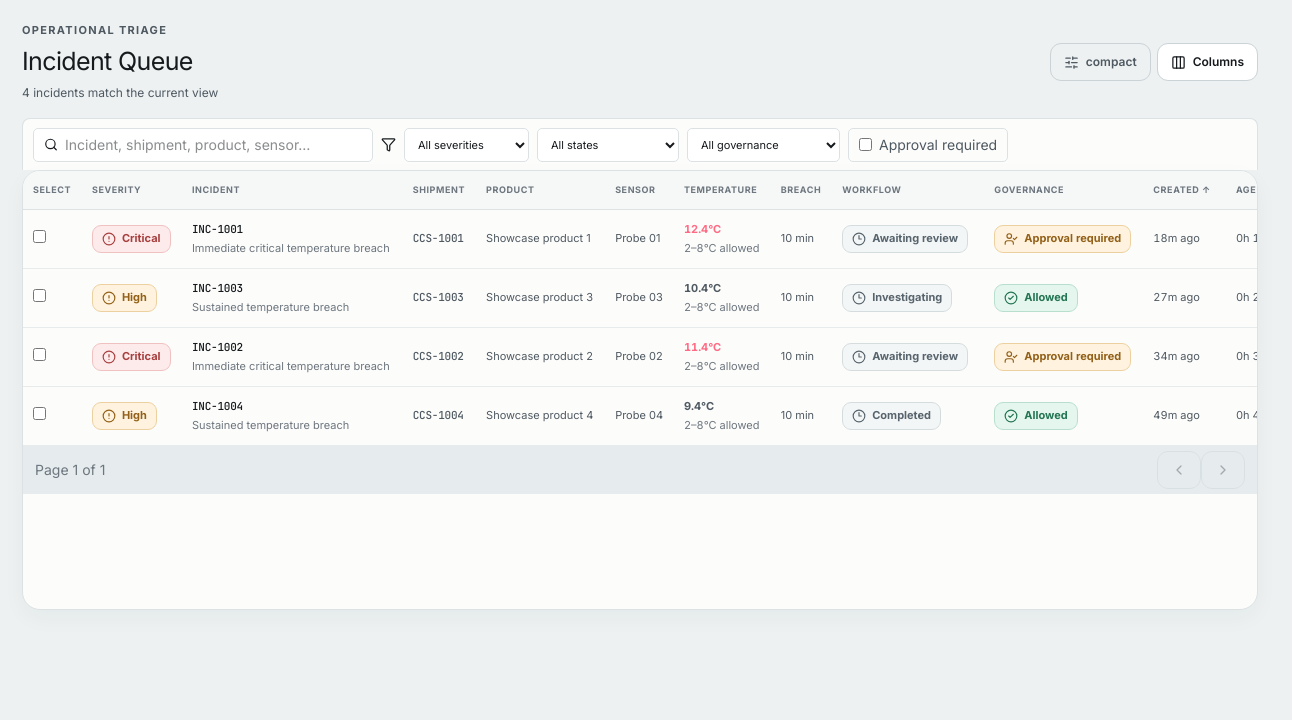
Scenario: canonical incident queue › preserves filtering, sorting, pagination controls, and accessibility
Expected: the text "4 incidents match the current view" is shown, [22,84,218,102]
Click the column heading "Incident". click: (292, 190)
box: [182,171,403,209]
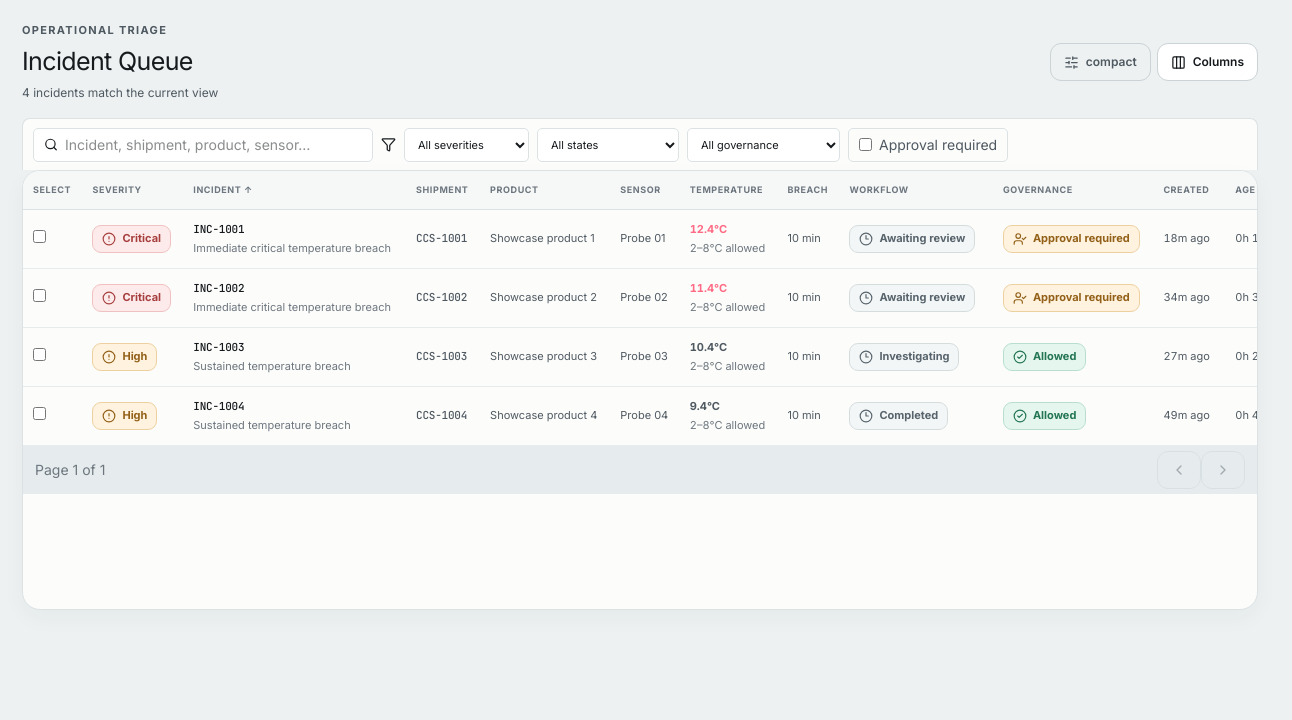
Expected: the 2nd row shows "INC-1001", [193,222,244,236]
Expected: the button named "Previous page" is disabled, [1157,450,1201,488]
Type "INC-1004" into the field named "Search incidents". click: (214, 144)
box: [65,134,362,155]
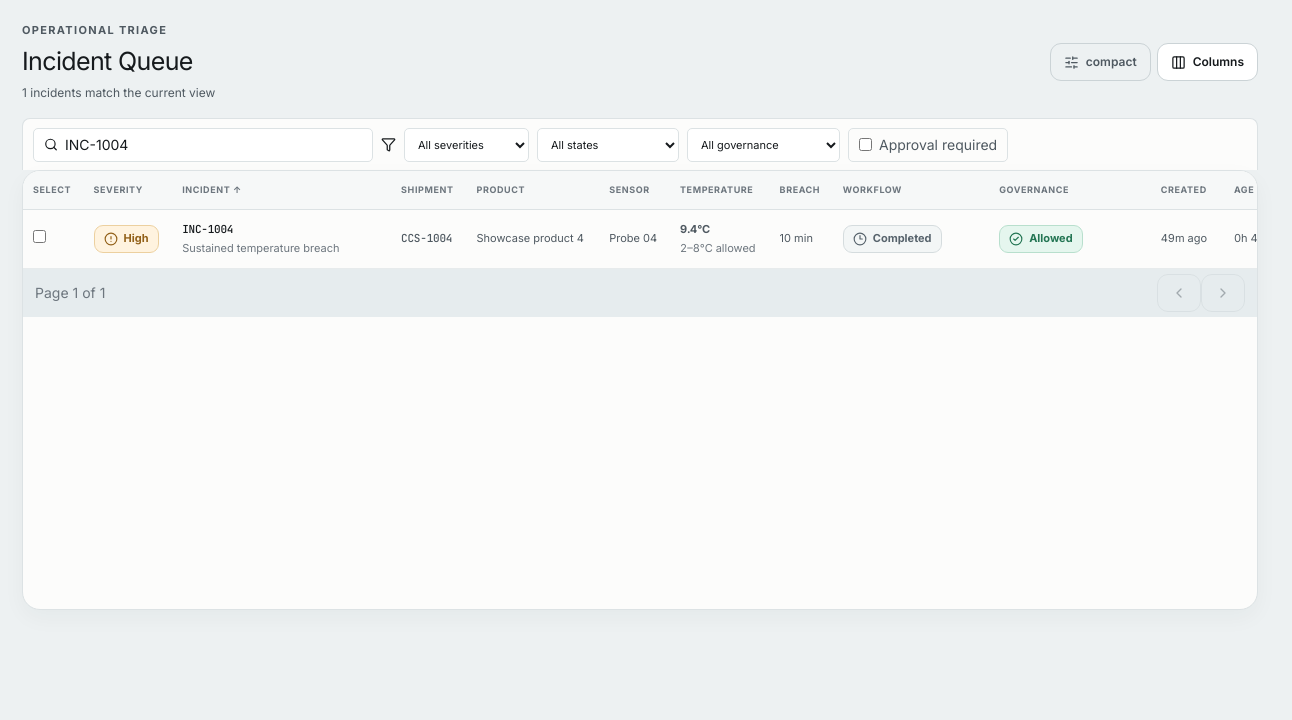
Now the text "1 incidents match the current view" is shown, box [22,84,215,102]
Now the text "INC-1004" is shown, box [182,222,233,236]
Now the text "INC-1001" is gone
